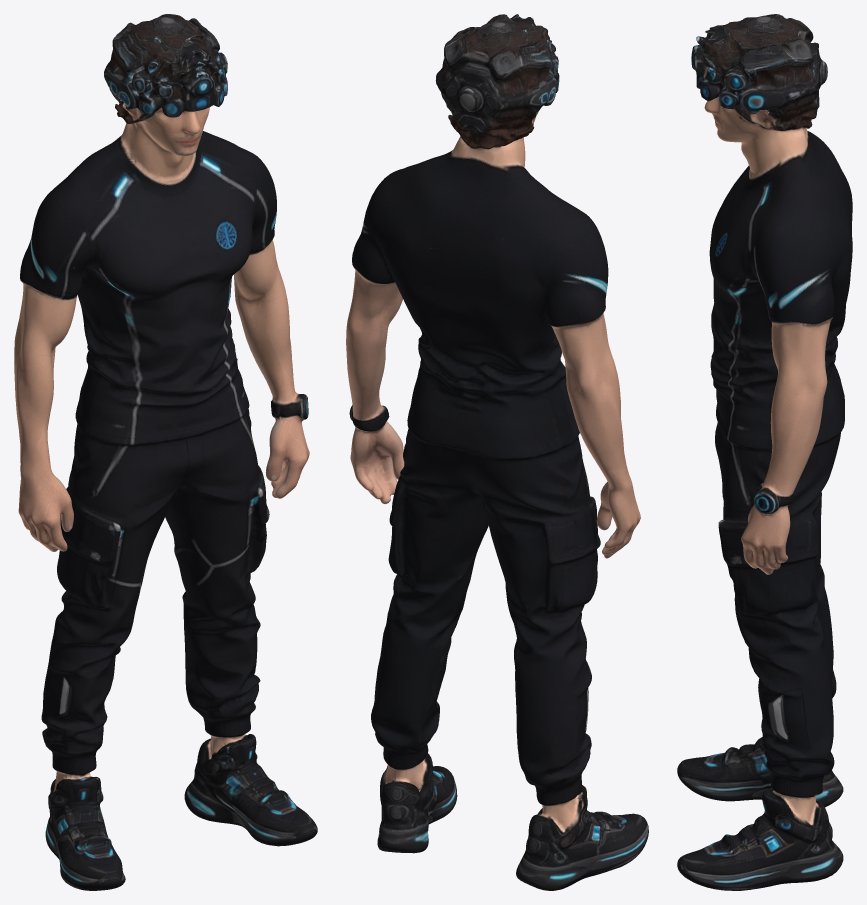
File: Meshy_AI_Neural_Vanguard_0918185718_texture.glb
3 views of the same model, side by side, from view 1: azimuth 30°, elevation 25°; view 2: azimuth 150°, elevation 25°; view 3: azimuth 270°, elevation 25° (orthographic).
Size of the model in its own units: 0.6837 by 1.9 by 0.3686.
1 material, 1 textured.
